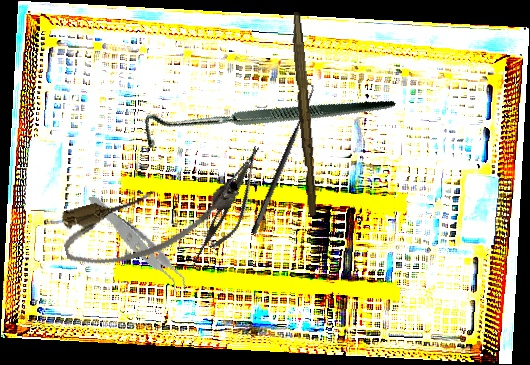Cannula: (56, 168, 248, 275)
Dressing Forceps: (188, 161, 253, 271)
Hook Surgical: (135, 13, 397, 232), (239, 78, 321, 236)
Micro Scissor: (194, 139, 273, 255)
Scalpel Handle: (286, 11, 322, 217)
Tissue Forceps: (86, 179, 191, 317)
